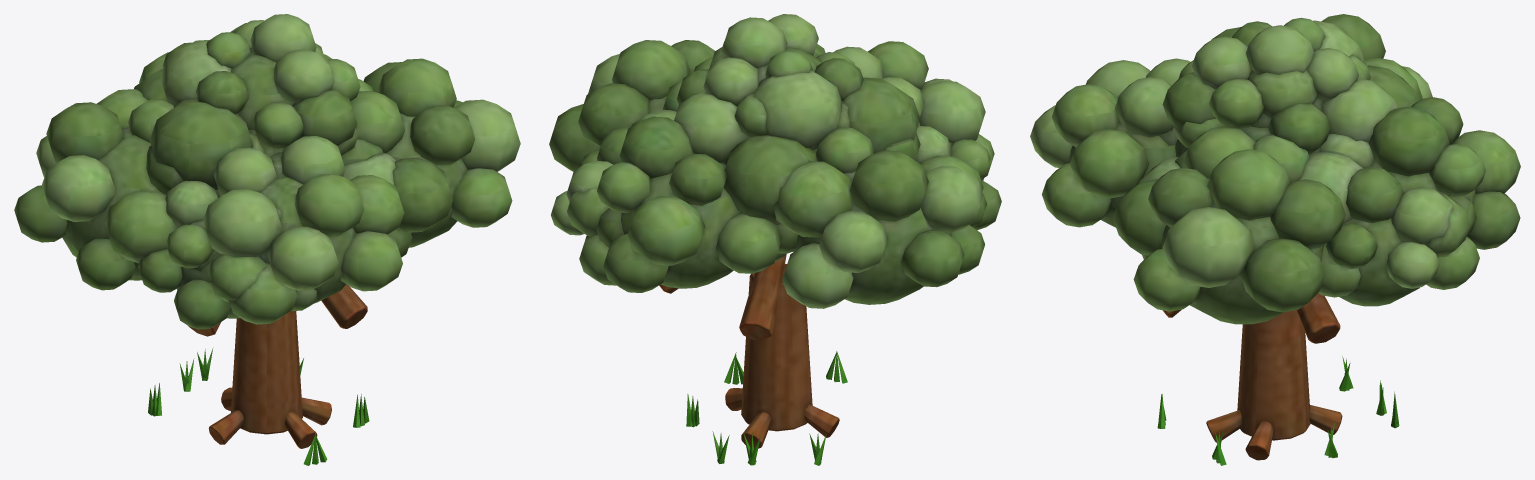
File: pistachio_tree.glb
3 renders of one model, left to right at view 1: azimuth 30°, elevation 25°; view 2: azimuth 150°, elevation 25°; view 3: azimuth 270°, elevation 25°, orthographic. The views are drawn at different scales.
Parts seen in each view (by area): view 1: crown, pistachio_tree; view 2: crown, pistachio_tree; view 3: crown, pistachio_tree.
Boxes of the visible parts, box(x1,y1,x2,y2) form: crown: box(14, 14, 520, 329); pistachio_tree: box(148, 284, 369, 465); crown: box(549, 14, 1001, 308); pistachio_tree: box(659, 254, 847, 465); crown: box(1030, 14, 1520, 324); pistachio_tree: box(1157, 293, 1399, 465).
Bounding box in the file's own units: 1.32 × 1.17 × 1.25.
1 material, 1 textured.
